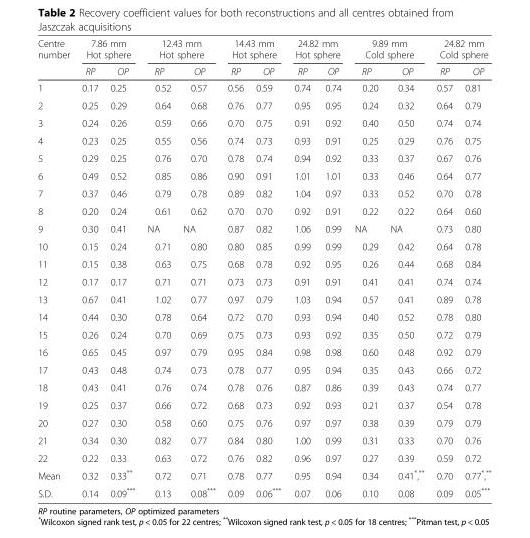table: (37, 37, 490, 498)
table column: (383, 37, 429, 498), (176, 37, 220, 498), (37, 37, 75, 498), (103, 37, 140, 498), (249, 37, 286, 498), (140, 37, 176, 498), (347, 37, 383, 498), (458, 37, 490, 498), (286, 37, 317, 498), (317, 37, 347, 498), (220, 37, 249, 498), (429, 37, 458, 498), (75, 37, 103, 498)
table column header: (37, 37, 490, 79)
table row: (37, 37, 490, 62), (37, 113, 490, 131), (37, 131, 490, 149), (37, 166, 490, 184), (37, 184, 490, 202), (37, 219, 490, 237), (37, 254, 490, 272), (37, 272, 490, 290), (37, 307, 490, 325), (37, 325, 490, 343), (37, 360, 490, 378), (37, 378, 490, 396), (37, 413, 490, 431), (37, 431, 490, 449), (37, 465, 490, 483), (37, 62, 490, 79), (37, 79, 490, 96), (37, 96, 490, 113), (37, 149, 490, 166), (37, 202, 490, 219), (37, 237, 490, 254), (37, 290, 490, 307), (37, 343, 490, 360), (37, 396, 490, 413), (37, 449, 490, 465), (37, 483, 490, 498)
table spanning cell: (347, 37, 429, 62), (140, 37, 220, 62), (220, 37, 286, 62), (75, 37, 140, 62), (37, 37, 75, 79), (286, 37, 347, 62), (429, 37, 490, 62)
